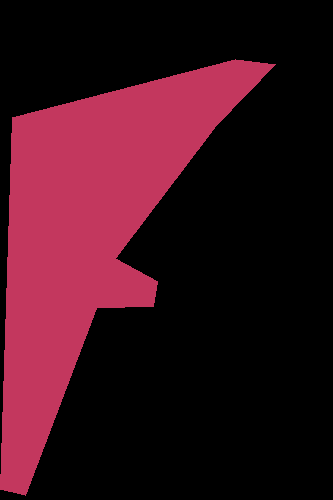Airplane: (0, 59, 275, 495)
